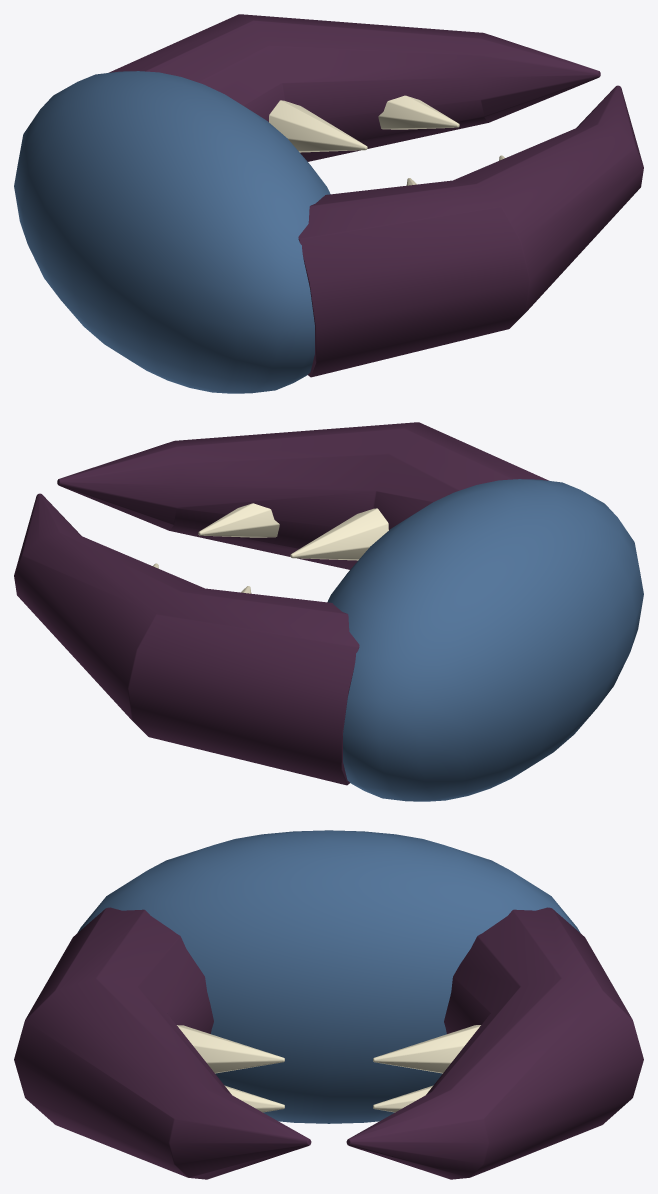
Rendered from mandible_shear.glb.
The picture shows the model from 3 angles, top to bottom: view 1: azimuth 30°, elevation 25°; view 2: azimuth 150°, elevation 25°; view 3: azimuth 270°, elevation 25°; orthographic projection. The views are drawn at different scales.
Parts seen in each view (by area): view 1: mandible_shear; view 2: mandible_shear; view 3: mandible_shear.
Part boxes in pixels (x1=…): mandible_shear: x1=14, y1=14, x2=643, y2=393; mandible_shear: x1=14, y1=422, x2=643, y2=801; mandible_shear: x1=14, y1=830, x2=643, y2=1179.
Size of the model in its own units: 1.17 by 0.54 by 1.14.
